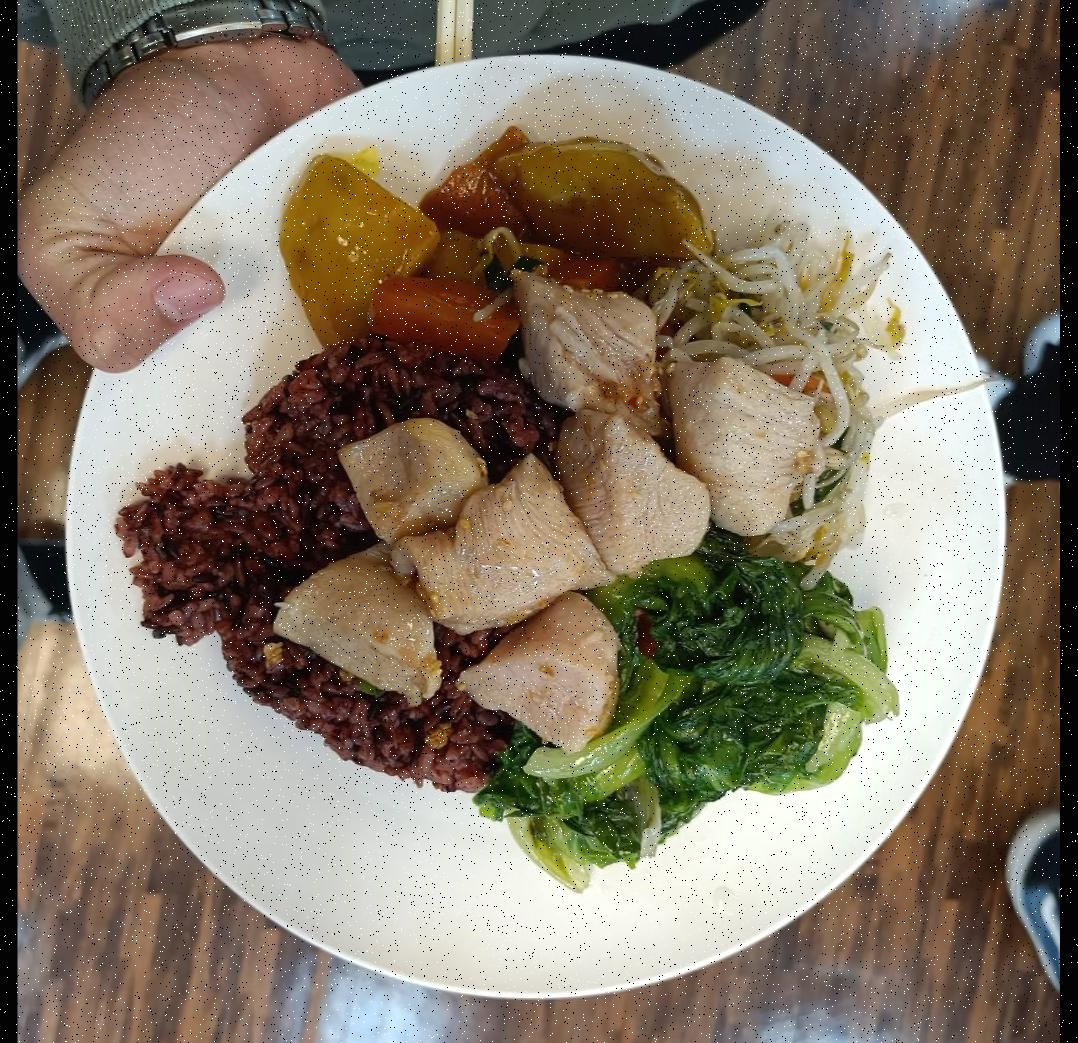big fried chicken leg: (62, 43, 1010, 1010)
braised fish: (112, 350, 578, 803)
braised fish fillet: (484, 544, 905, 885), (272, 118, 712, 358), (677, 236, 895, 543)
braised pork: (274, 272, 828, 724)
